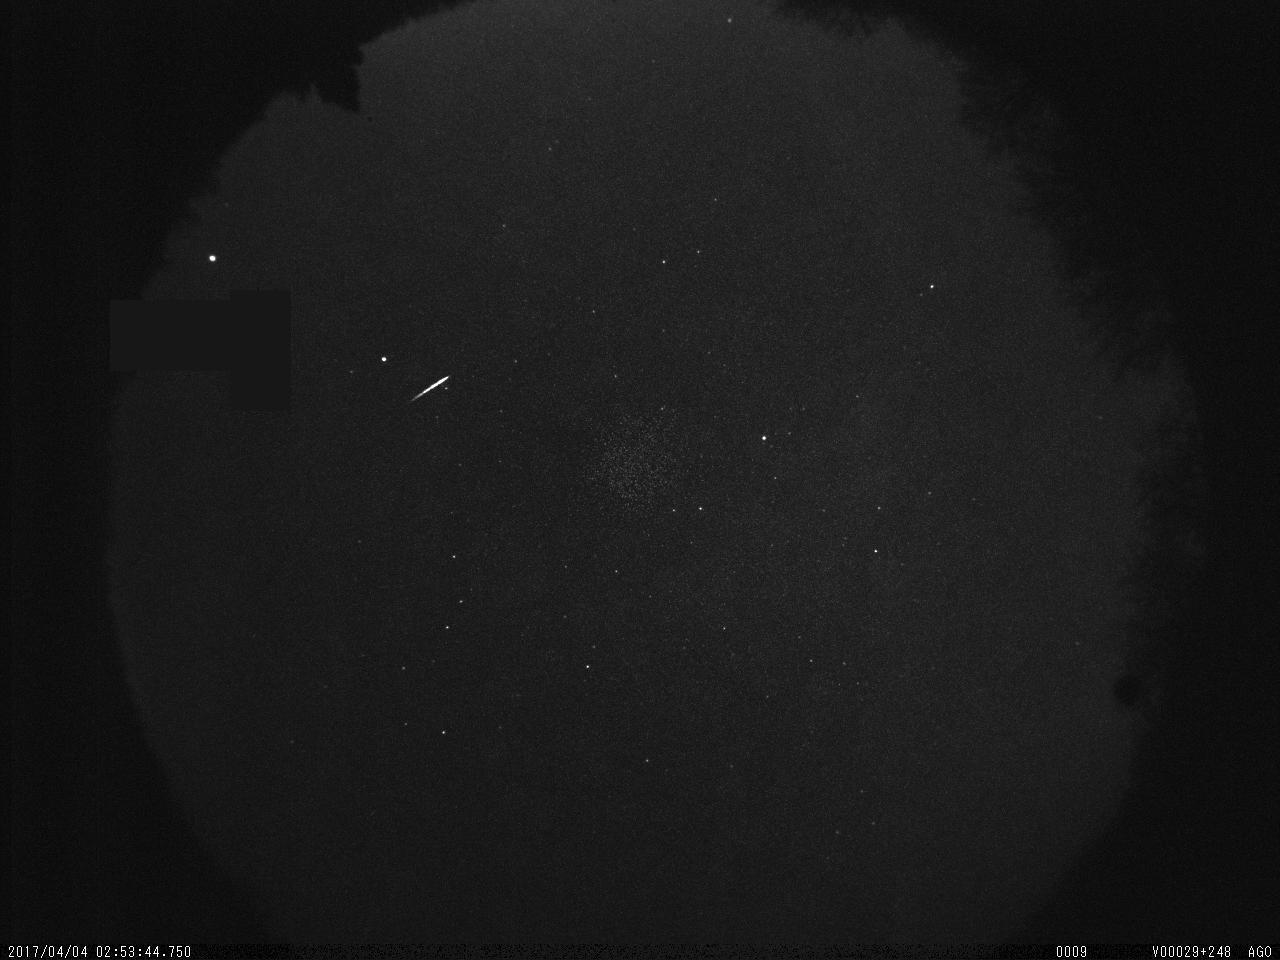meteor: (394, 362, 472, 424)
